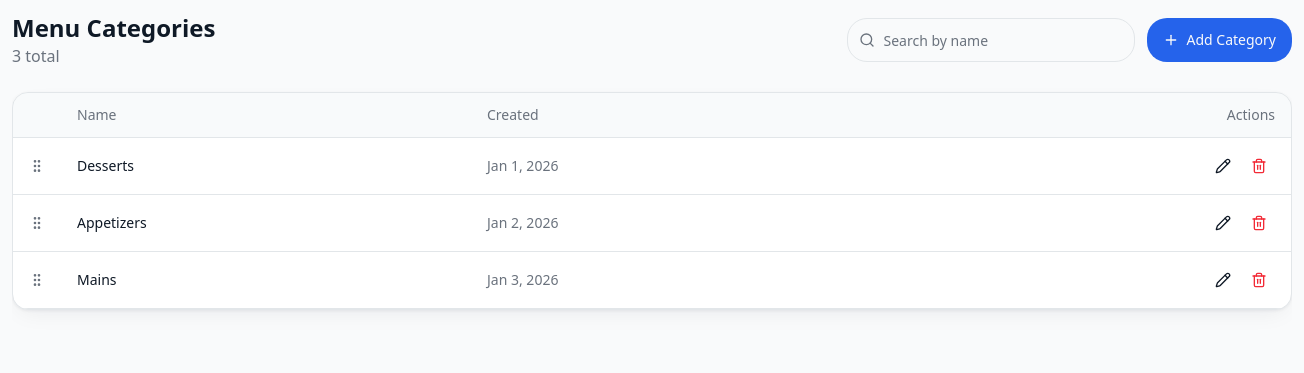
Test: AdminCategoriesPage › disables reorder affordance while search is active
The image size is (1304, 373).
Expected: the text "Desserts" is shown, top-left (61, 138), bottom-right (471, 194)
Expected: the number of buttons named "Drag to reorder" is 3, top-left (21, 150), bottom-right (53, 182); top-left (21, 207), bottom-right (53, 239); top-left (21, 264), bottom-right (53, 296)
Type "Des" into the field with placeholder "Search by name" at [990, 40], box top-left (846, 18), bottom-right (1134, 62)
Wait 350 ms
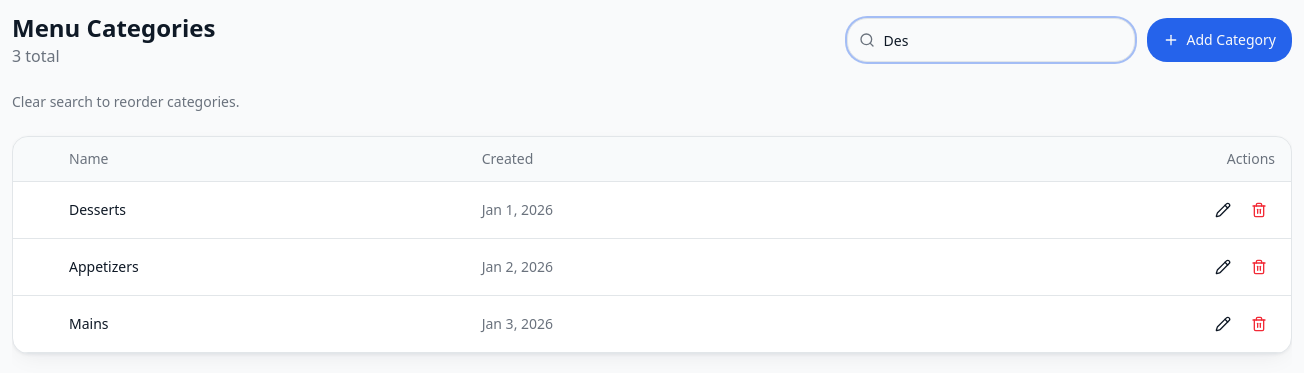
Now the text "Clear search to reorder categories." is shown, box top-left (12, 92), bottom-right (239, 111)
